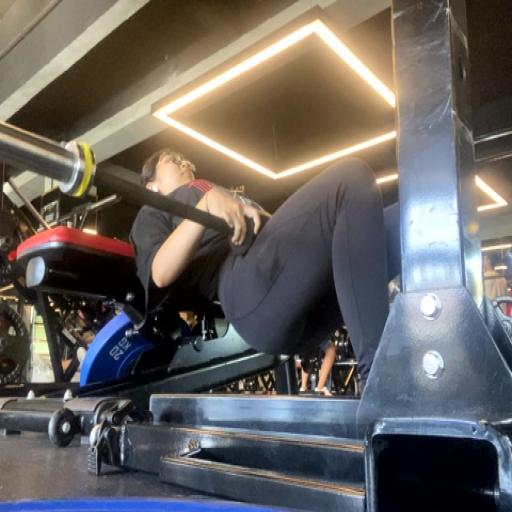exercise: (127, 144, 392, 395)
